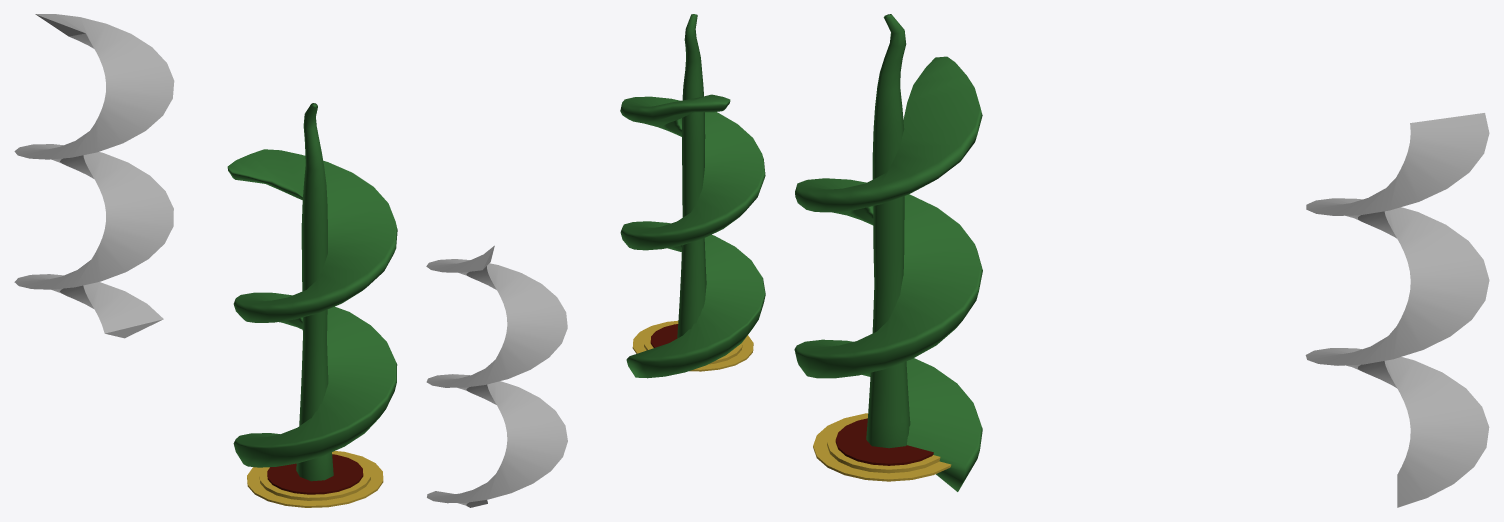
The model's file is plant.fbx.
The picture shows the model from 3 angles, left to right: view 1: azimuth 30°, elevation 25°; view 2: azimuth 150°, elevation 25°; view 3: azimuth 270°, elevation 25°; orthographic projection. The views are drawn at different scales.
Parts seen in each view (by area): view 1: pHelix2, pHelix1, Plant28, Plant29; view 2: pHelix2, pHelix1, Plant28, Plant29; view 3: pHelix2, pHelix1, Plant28, Plant29.
Boxes of the visible parts, x1=… form: pHelix2: x1=227, y1=149, x2=397, y2=467; pHelix1: x1=14, y1=14, x2=174, y2=338; Plant28: x1=296, y1=103, x2=333, y2=481; Plant29: x1=247, y1=451, x2=383, y2=507; pHelix2: x1=620, y1=94, x2=765, y2=378; pHelix1: x1=426, y1=245, x2=567, y2=507; Plant28: x1=677, y1=14, x2=706, y2=338; Plant29: x1=632, y1=320, x2=753, y2=371; pHelix2: x1=794, y1=56, x2=982, y2=491; pHelix1: x1=1305, y1=113, x2=1489, y2=507; Plant28: x1=866, y1=14, x2=910, y2=448; Plant29: x1=813, y1=413, x2=951, y2=481.
Size of the model in its own units: 2.83 by 7.69 by 10.43.
